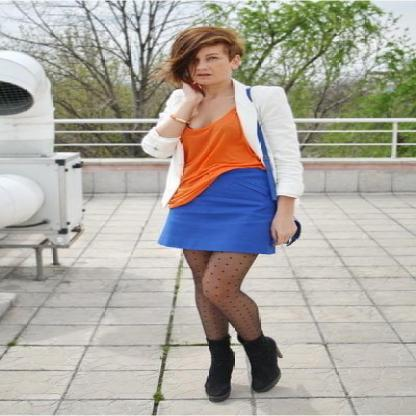jacket: (130, 78, 311, 213)
shirt: (167, 108, 261, 207)
shoe: (187, 332, 281, 402)
skirt: (158, 158, 280, 254)
